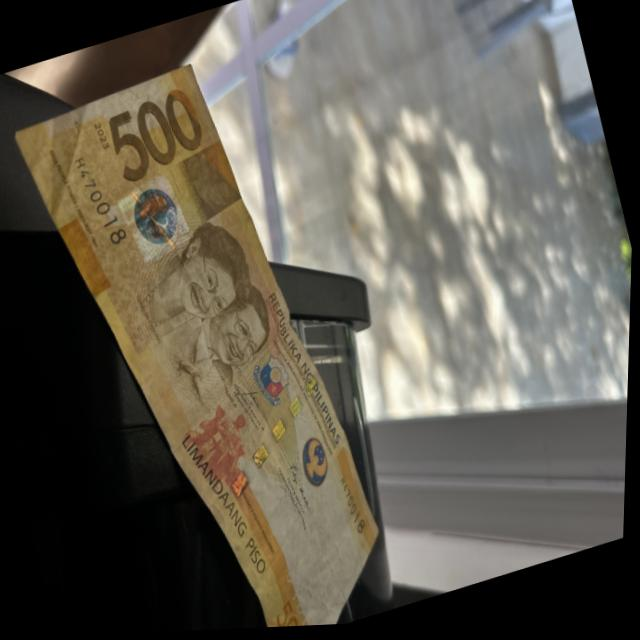concealed_value: (176, 137, 243, 228)
optically_variable_device: (128, 181, 185, 247)
watermark: (265, 478, 386, 630)
